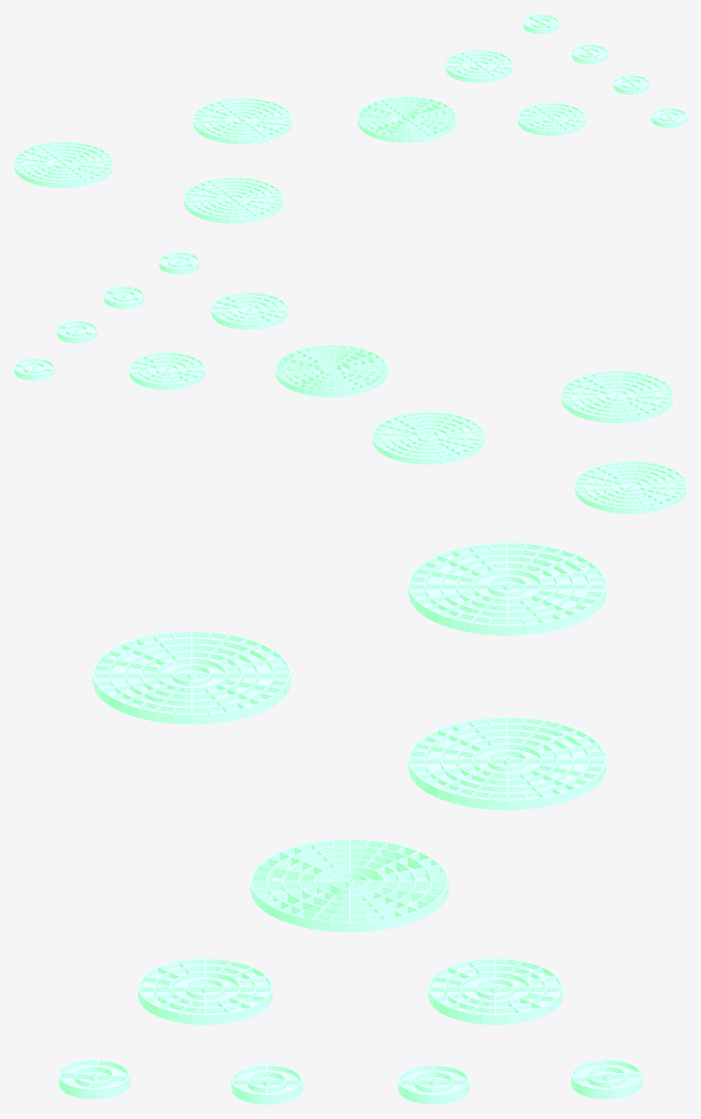
Rendered from holes.glb.
The picture shows the model from 3 angles, top to bottom: view 1: azimuth 30°, elevation 25°; view 2: azimuth 150°, elevation 25°; view 3: azimuth 270°, elevation 25°; orthographic projection. The views are drawn at different scales.
Visible parts, largest first — view 1: debug_view; view 2: debug_view; view 3: debug_view.
Part boxes in pixels (box(x1,y1,x2,y2)): debug_view: box(14, 14, 686, 223); debug_view: box(14, 252, 686, 513); debug_view: box(58, 542, 642, 1104).
Size of the model in its own units: 261 by 2.1 by 117.
